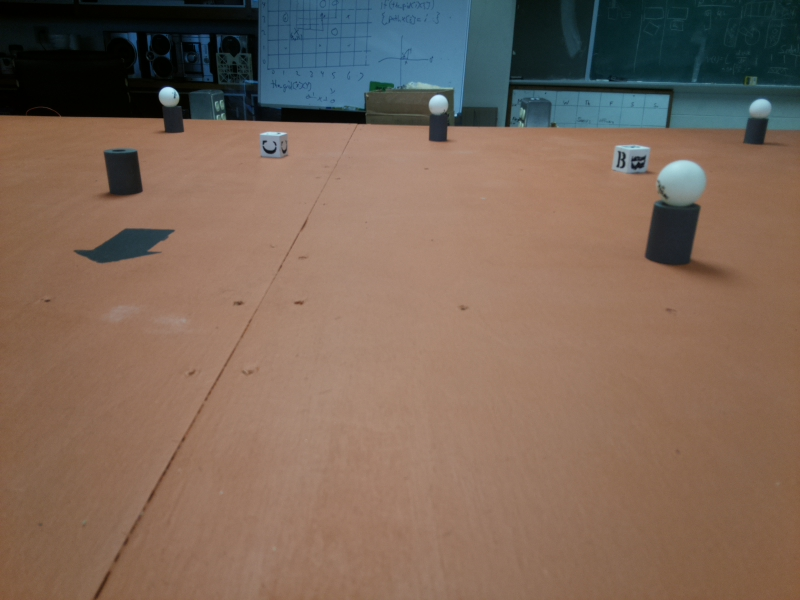blockB: (610, 141, 652, 177)
blockC: (258, 128, 290, 162)
obstacle: (646, 159, 707, 263), (106, 143, 143, 203), (744, 94, 775, 148), (425, 93, 451, 145), (157, 84, 183, 134)
start: (73, 221, 177, 271)
